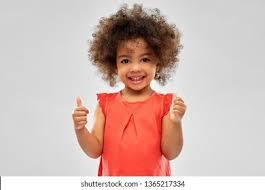person: (92, 8, 178, 93)
